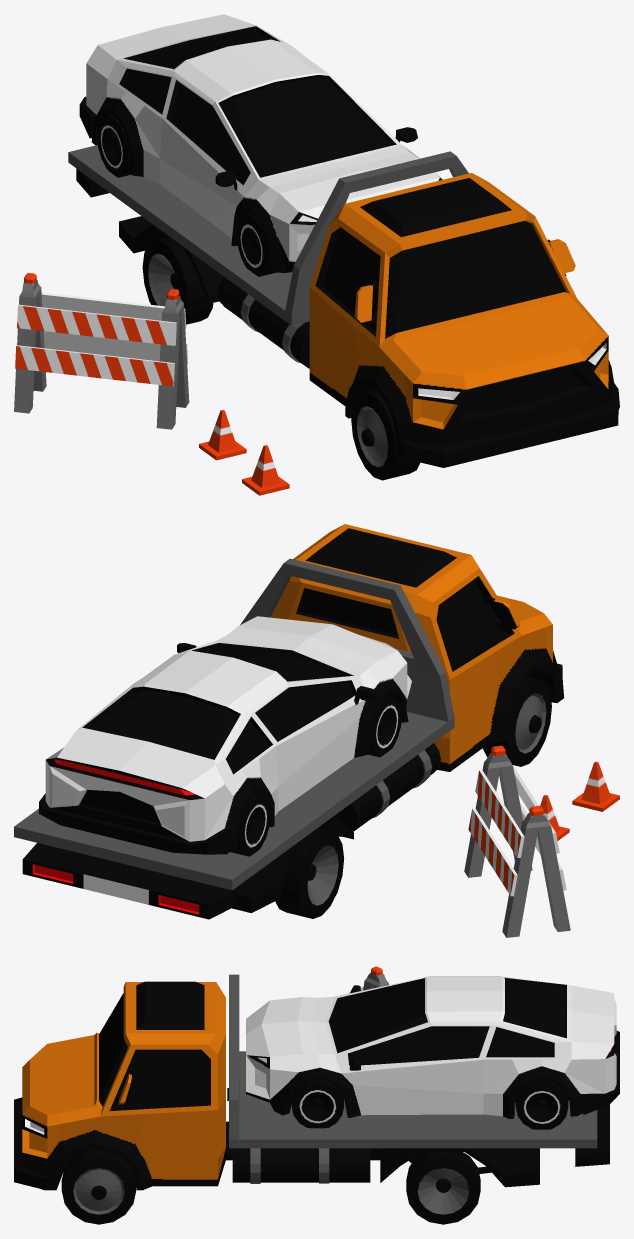
Rendered from demo.glb.
3 views of the same model, one above another, from view 1: azimuth 30°, elevation 25°; view 2: azimuth 150°, elevation 25°; view 3: azimuth 270°, elevation 25° (orthographic). The views are drawn at different scales.
Parts seen in each view (by area): view 1: TowTruck, Car_2Doors, RoadBlock, RoadCone2, RoadCone; view 2: TowTruck, Car_2Doors, RoadBlock, RoadCone; view 3: TowTruck, Car_2Doors, RoadBlock.
Part boxes in pixels (<box>): TowTruck: <box>68,145,619,480</box>; Car_2Doors: <box>79,14,442,276</box>; RoadBlock: <box>14,273,189,429</box>; RoadCone2: <box>199,409,246,460</box>; RoadCone: <box>242,445,289,495</box>; TowTruck: <box>14,524,564,919</box>; Car_2Doors: <box>39,616,412,856</box>; RoadBlock: <box>464,745,570,937</box>; RoadCone: <box>572,761,619,811</box>; TowTruck: <box>14,974,609,1224</box>; Car_2Doors: <box>246,976,619,1129</box>; RoadBlock: <box>337,966,388,995</box>.
Size of the model in its own units: 4.99 by 2.61 by 7.55.
4 materials, 4 textured.
